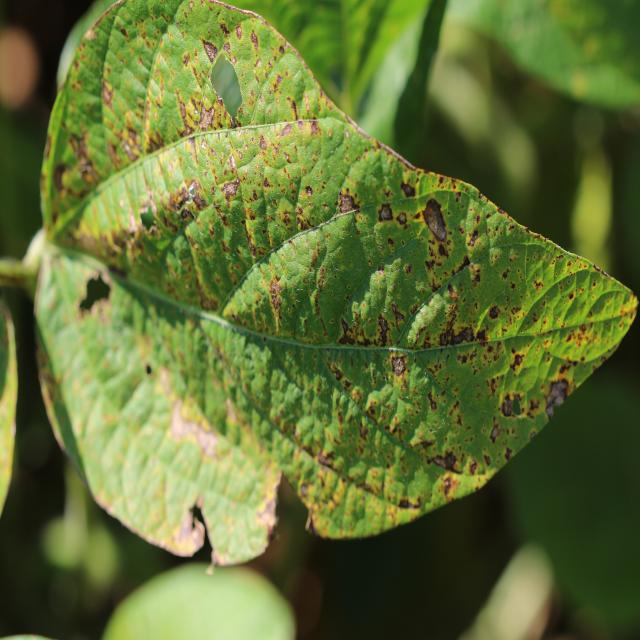Bacterial_Blight: (125, 305, 213, 413), (434, 337, 520, 432), (469, 252, 538, 332), (342, 301, 403, 348), (256, 120, 307, 173), (414, 190, 455, 253), (79, 285, 122, 331), (67, 131, 97, 180), (559, 320, 599, 352), (166, 180, 197, 220), (135, 193, 161, 231), (106, 137, 128, 171), (141, 90, 154, 145), (177, 95, 193, 135), (338, 318, 356, 346), (220, 178, 240, 202), (53, 163, 69, 193), (317, 452, 339, 471), (101, 82, 114, 108), (400, 180, 416, 198), (397, 496, 419, 509), (269, 279, 282, 297), (358, 421, 369, 442), (427, 392, 438, 411), (309, 119, 321, 136), (280, 122, 293, 137), (222, 41, 233, 58), (258, 135, 269, 152), (250, 30, 259, 50), (219, 23, 230, 37), (501, 269, 510, 281), (376, 264, 385, 276), (592, 263, 602, 273), (404, 264, 412, 275), (120, 27, 128, 38)
Soybean: (0, 0, 637, 562)
